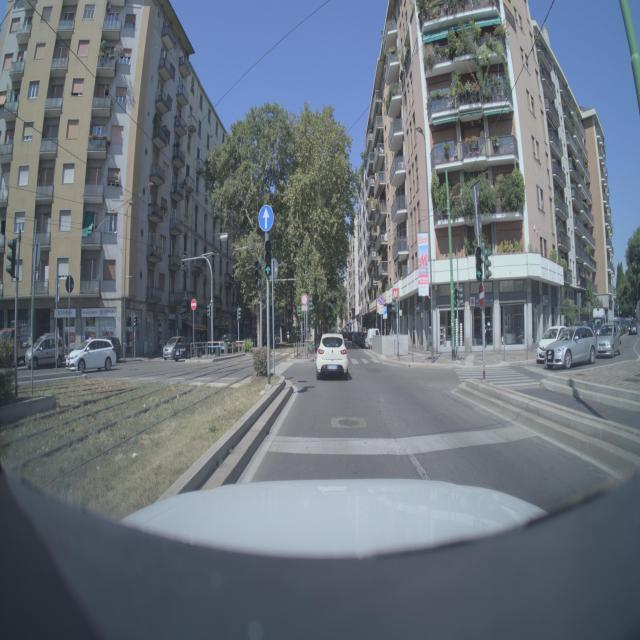green_light: (262, 240, 274, 278), (474, 247, 485, 282)
